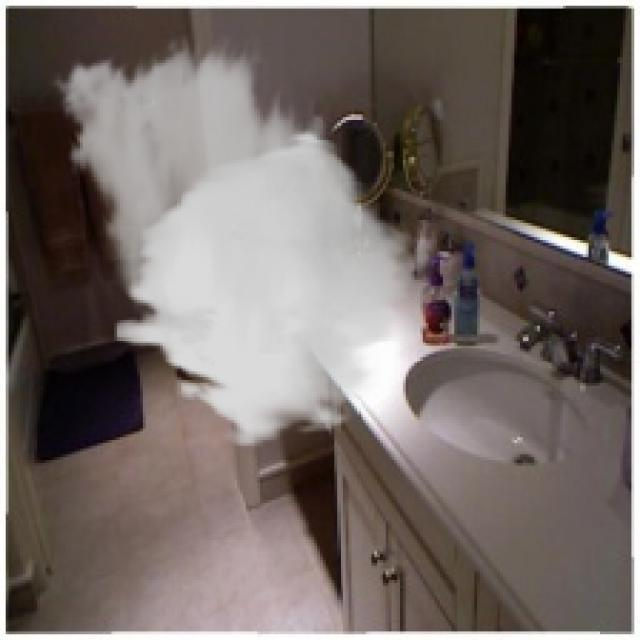Smoke: (46, 34, 414, 449)
